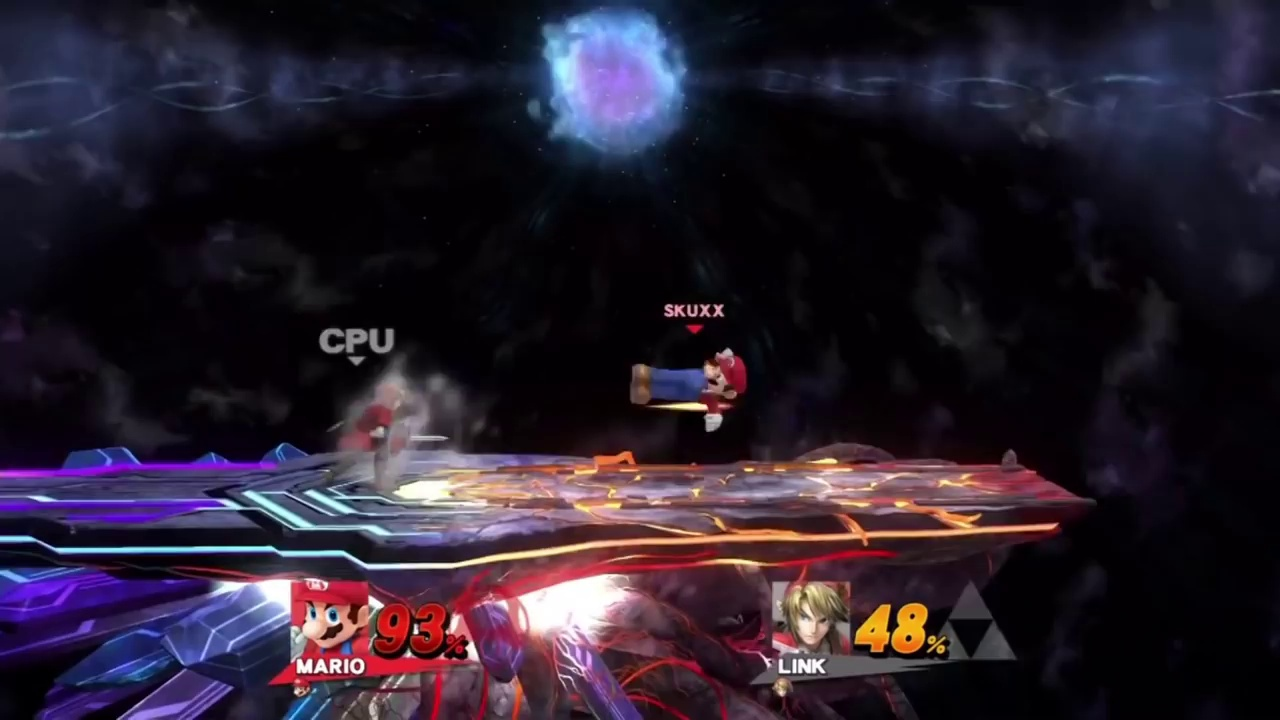Mario: (629, 350, 746, 434)
